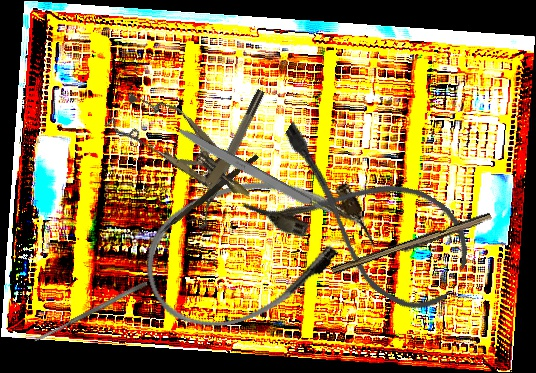Cannula: (239, 115, 487, 324), (129, 150, 384, 345)
Fixation Ring: (187, 87, 273, 231)
Pusher: (158, 151, 259, 239)
Scalpel Handle: (170, 122, 335, 222), (330, 209, 494, 280)
Spatula Surgical: (32, 280, 149, 344)
Speculum: (104, 79, 266, 219)
